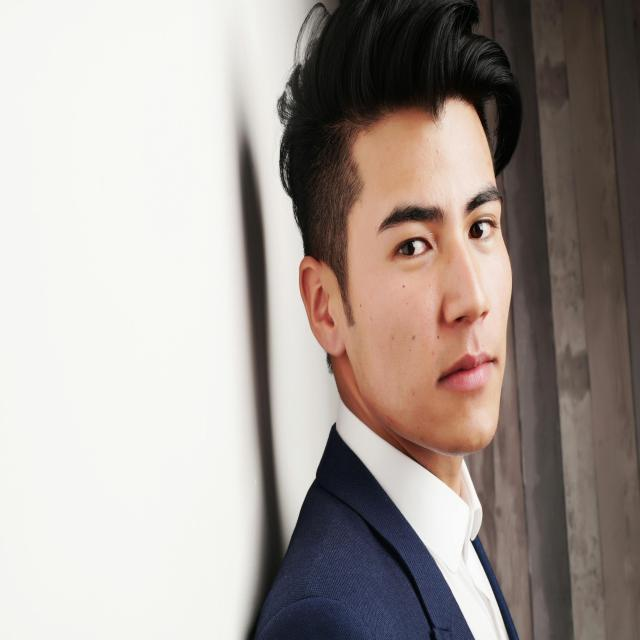human: (243, 4, 534, 640)
